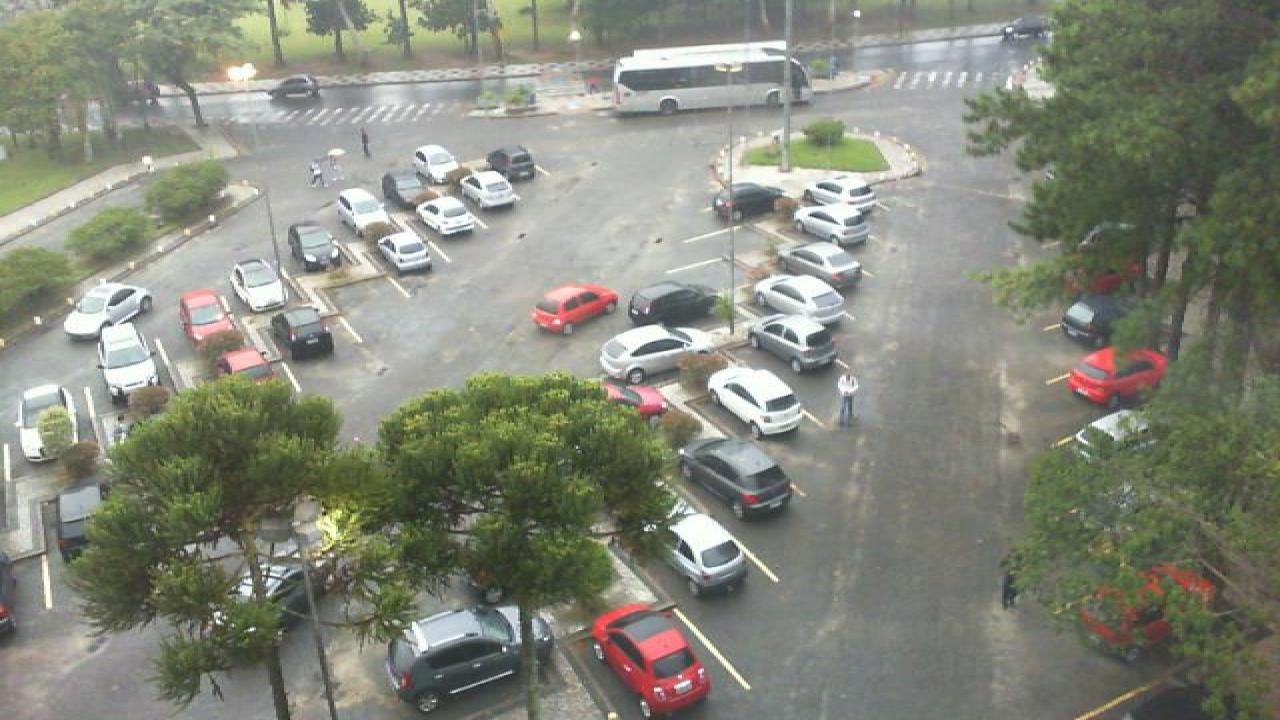Car: (386, 604, 534, 711), (1080, 562, 1228, 662), (590, 603, 712, 717), (678, 435, 798, 522), (652, 513, 752, 597), (706, 366, 808, 440), (600, 324, 710, 386), (1064, 346, 1170, 406), (748, 313, 840, 371), (64, 282, 154, 341), (98, 320, 160, 404), (752, 272, 846, 326), (14, 384, 76, 464), (532, 283, 620, 336), (1074, 408, 1158, 463), (626, 281, 718, 330), (782, 240, 866, 292), (56, 484, 110, 559), (1058, 291, 1126, 350), (268, 305, 336, 360), (178, 289, 240, 349), (796, 205, 874, 251), (228, 257, 290, 312), (798, 174, 876, 214), (710, 180, 778, 224), (336, 187, 394, 235), (600, 381, 668, 421), (288, 220, 342, 270), (376, 229, 434, 274), (414, 194, 476, 236), (212, 349, 274, 389), (380, 170, 436, 214), (460, 170, 520, 211), (412, 145, 464, 186), (488, 144, 538, 181)
